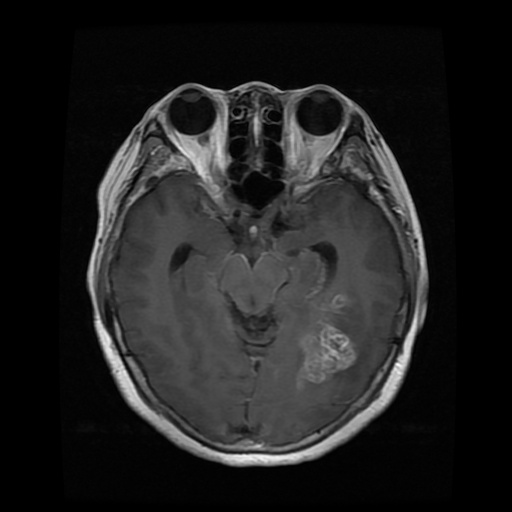glioma: (295, 291, 373, 400)
